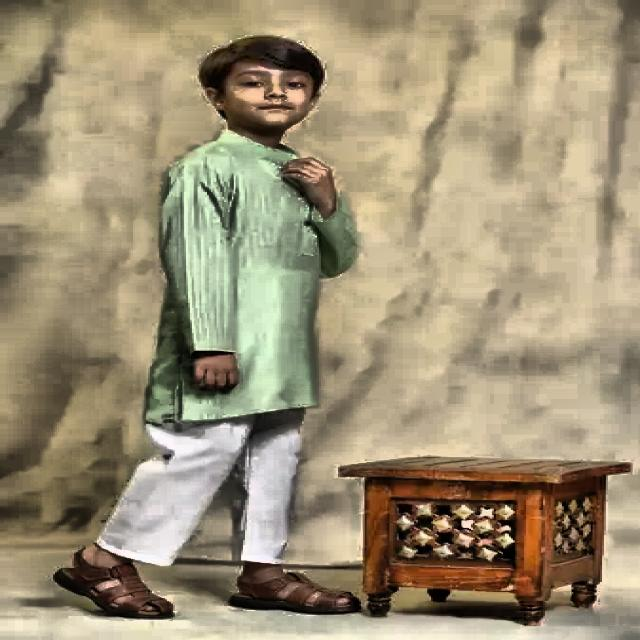Human: (63, 20, 404, 622)
